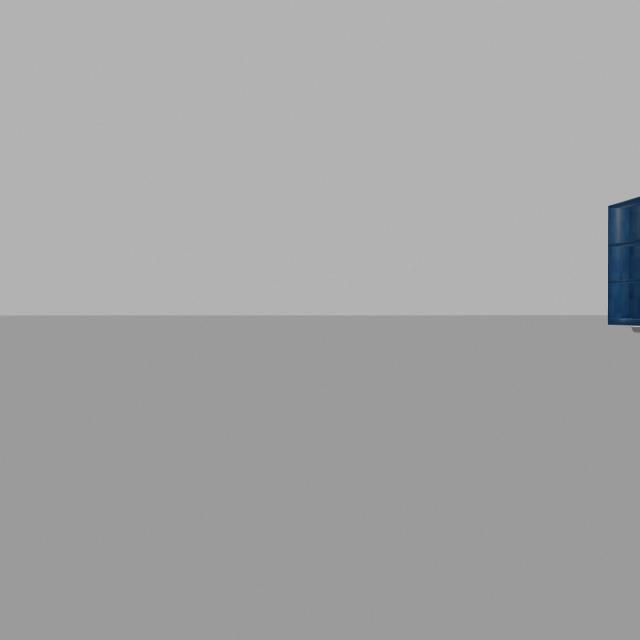bowl: (626, 323, 640, 338)
shelf: (606, 186, 640, 324)
